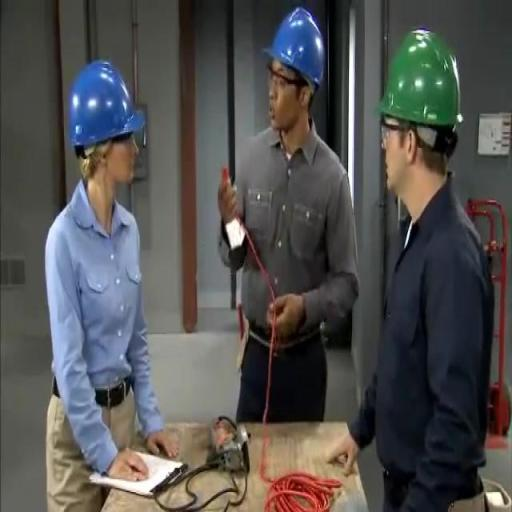helmet: (368, 18, 474, 152), (58, 50, 150, 158), (259, 1, 334, 98)
